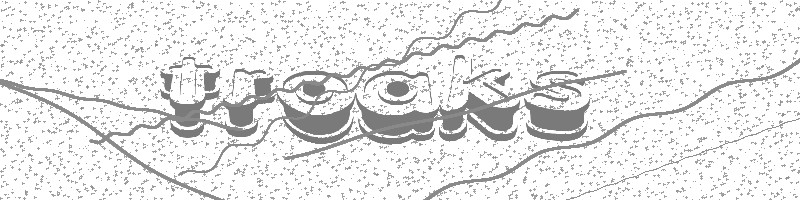a: (355, 69, 437, 146)
k: (440, 52, 520, 143)
o: (277, 66, 355, 146)
r: (222, 64, 279, 139)
s: (523, 65, 593, 143)
t: (156, 52, 222, 142)
